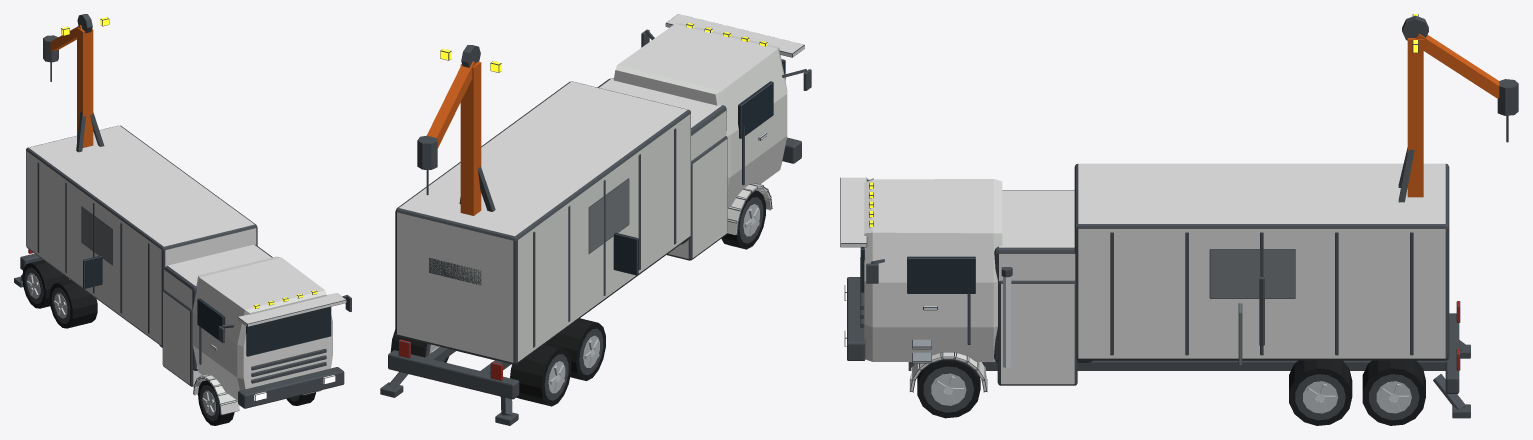
The model's file is veh_wireline_truck.glb.
3 renders of one model, left to right at view 1: azimuth 30°, elevation 25°; view 2: azimuth 150°, elevation 25°; view 3: azimuth 270°, elevation 25°, orthographic. The views are drawn at different scales.
Visible parts, largest first — view 1: veh_wireline_truck; view 2: veh_wireline_truck; view 3: veh_wireline_truck.
Part boxes in pixels (x1,y1,x2,y2): veh_wireline_truck: (14, 14, 351, 425); veh_wireline_truck: (380, 14, 811, 425); veh_wireline_truck: (840, 14, 1518, 425).
Bounding box in the file's own units: 3.34 × 6.64 × 11.04.
